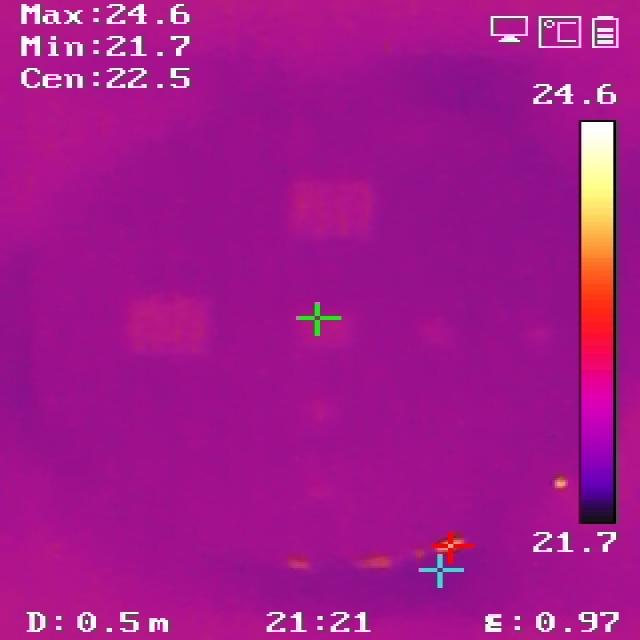Indistinguishable 4-bar target: (285, 171, 364, 231), (129, 291, 204, 347), (311, 322, 341, 346)
